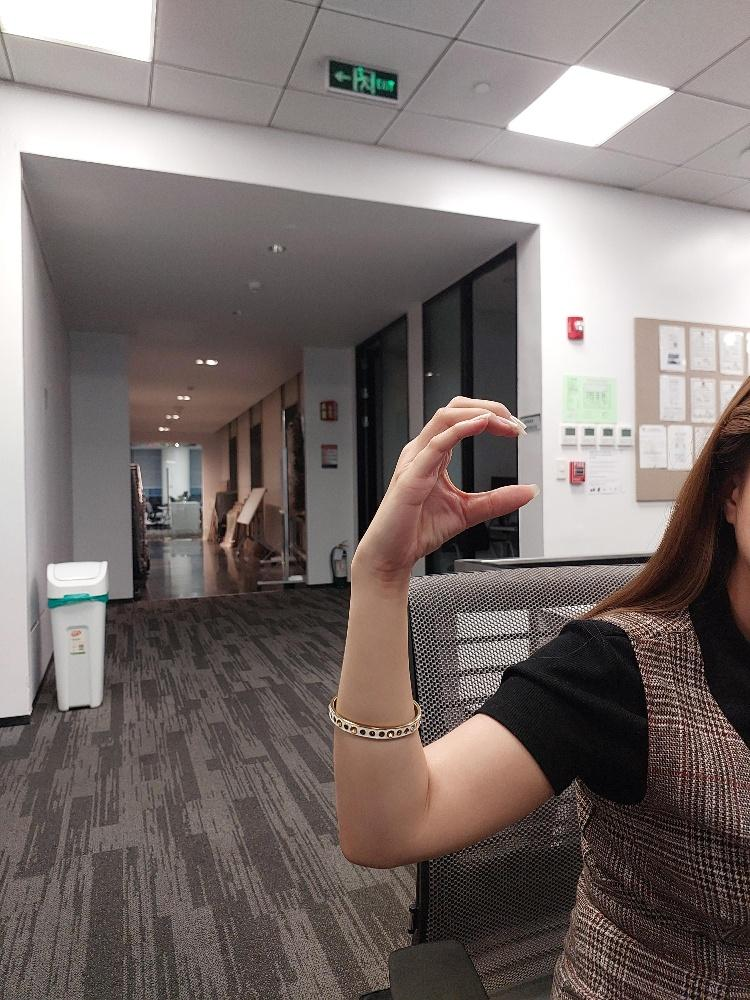c: (359, 390, 540, 584)
